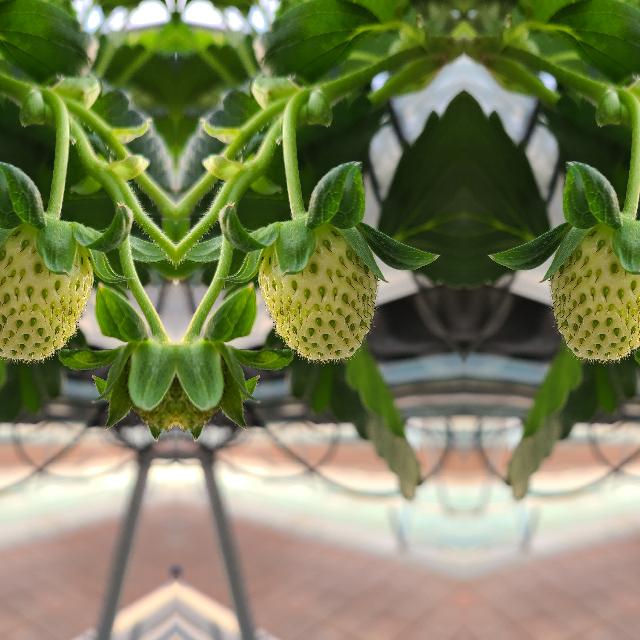Health_25: (254, 222, 380, 366), (0, 222, 96, 366), (546, 222, 640, 366)
